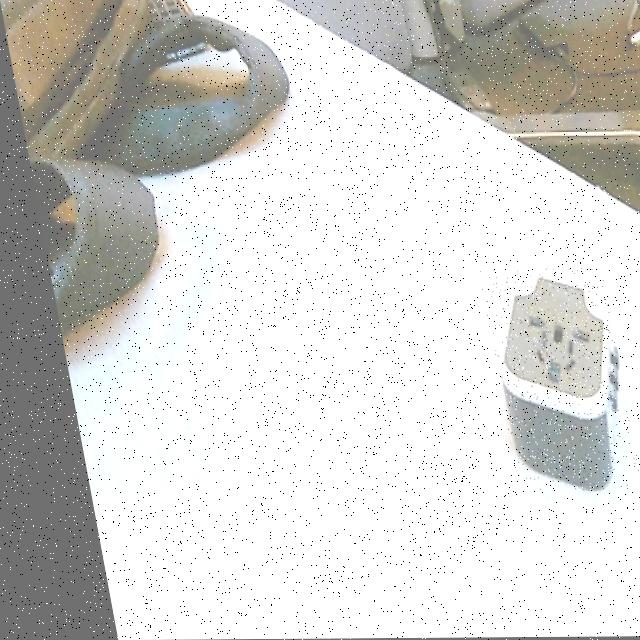adapter: (468, 269, 624, 491)
